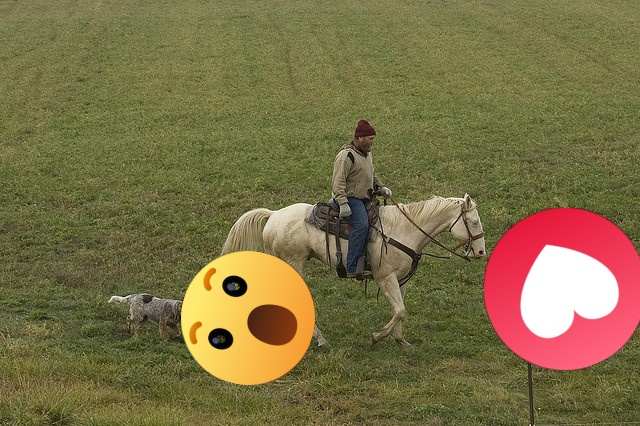love: (484, 208, 640, 370)
wow: (181, 251, 315, 385)
